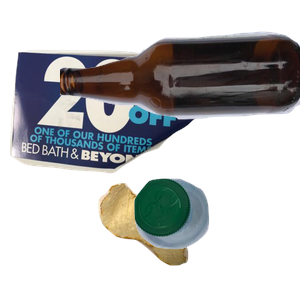glass: (60, 29, 300, 141)
paper: (10, 41, 242, 207)
plastic: (132, 176, 300, 300)
trash: (96, 181, 277, 300)
